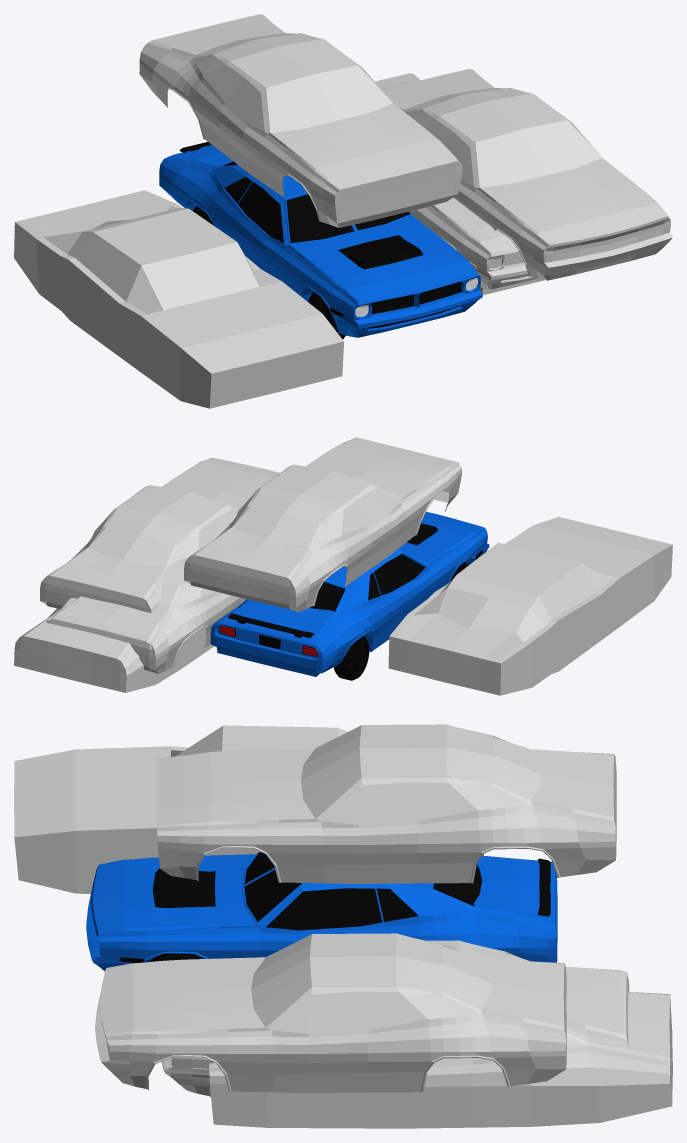
File: CARRO-CUDA 1.fbx
3 renders of one model, top to bottom at view 1: azimuth 30°, elevation 25°; view 2: azimuth 150°, elevation 25°; view 3: azimuth 270°, elevation 25°, orthographic. The views are drawn at different scales.
Visible parts, largest first — view 1: BODY.001, BODY.003, BODY.004, BODY, BODY.005, mask, BODY.002; view 2: BODY.001, BODY.003, BODY, BODY.004, BODY.005, BODY.002, Llanta2.001; view 3: BODY.004, BODY.003, BODY, BODY.002, BODY.001, BODY.005.
Boxes of the visible parts, x1=… form: BODY.001: x1=14, y1=190, x2=343, y2=408; BODY.003: x1=139, y1=14, x2=462, y2=227; BODY.004: x1=382, y1=69, x2=672, y2=280; BODY: x1=159, y1=142, x2=482, y2=337; BODY.005: x1=380, y1=80, x2=537, y2=289; mask: x1=371, y1=281, x2=462, y2=314; BODY.002: x1=375, y1=73, x2=544, y2=294; BODY.001: x1=388, y1=516, x2=672, y2=695; BODY.003: x1=184, y1=437, x2=462, y2=612; BODY: x1=210, y1=511, x2=489, y2=676; BODY.004: x1=40, y1=457, x2=279, y2=612; BODY.005: x1=46, y1=557, x2=246, y2=673; BODY.002: x1=14, y1=598, x2=214, y2=692; Llanta2.001: x1=334, y1=636, x2=369, y2=680; BODY.004: x1=95, y1=933, x2=566, y2=1092; BODY.003: x1=156, y1=724, x2=616, y2=883; BODY: x1=86, y1=852, x2=557, y2=971; BODY.002: x1=209, y1=992, x2=672, y2=1128; BODY.001: x1=14, y1=725, x2=484, y2=893; BODY.005: x1=161, y1=940, x2=629, y2=1096.
Bounding box in the file's own units: 931 × 355 × 881.
